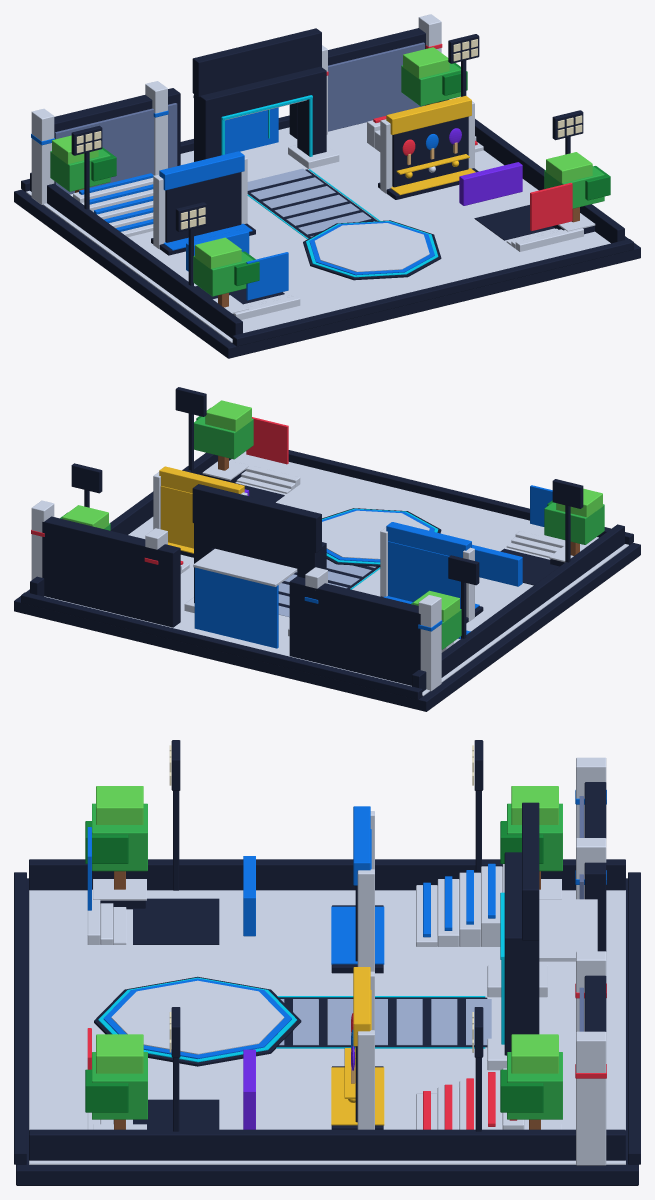
File: Lobby.glb
3 renders of one model, top to bottom at view 1: azimuth 30°, elevation 25°; view 2: azimuth 150°, elevation 25°; view 3: azimuth 270°, elevation 25°, orthographic. The views are drawn at different scales.
Parts seen in each view (by area): view 1: Lobby_PB_18213d, Lobby_PB_d9e4fa, Lobby_PB_687cae, Lobby_PB_087bff, Lobby_PB_32bf53, Lobby_PB_68e65b, Lobby_PB_a5b9df, Lobby_PB_ffc928, Lobby_PB_14933b, Lobby_PB_762bff, Lobby_PB_ff304b, Lobby_PB_00d9ff (+1 smaller); view 2: Lobby_PB_18213d, Lobby_PB_d9e4fa, Lobby_PB_087bff, Lobby_PB_32bf53, Lobby_PB_ffc928, Lobby_PB_68e65b, Lobby_PB_ff304b, Lobby_PB_a5b9df; view 3: Lobby_PB_d9e4fa, Lobby_PB_18213d, Lobby_PB_087bff, Lobby_PB_68e65b, Lobby_PB_32bf53, Lobby_PB_a5b9df, Lobby_PB_14933b, Lobby_PB_ffc928, Lobby_PB_00d9ff, Lobby_PB_ff304b, Lobby_PB_762bff.
Boxes of the visible parts, x1,y1,x2,y2 form: Lobby_PB_18213d: (14, 28, 640, 358); Lobby_PB_d9e4fa: (26, 14, 610, 342); Lobby_PB_687cae: (54, 42, 424, 194); Lobby_PB_087bff: (31, 107, 438, 300); Lobby_PB_32bf53: (50, 63, 604, 296); Lobby_PB_68e65b: (52, 47, 592, 268); Lobby_PB_a5b9df: (247, 168, 374, 237); Lobby_PB_ffc928: (386, 96, 475, 195); Lobby_PB_14933b: (91, 63, 610, 285); Lobby_PB_762bff: (449, 128, 522, 205); Lobby_PB_ff304b: (326, 43, 572, 231); Lobby_PB_00d9ff: (221, 95, 438, 277); Lobby_PB_18213d: (14, 387, 640, 711); Lobby_PB_d9e4fa: (31, 451, 628, 696); Lobby_PB_087bff: (194, 485, 552, 648); Lobby_PB_32bf53: (104, 416, 604, 649); Lobby_PB_ffc928: (159, 466, 244, 553); Lobby_PB_68e65b: (62, 400, 602, 622); Lobby_PB_ff304b: (31, 417, 288, 564); Lobby_PB_a5b9df: (278, 559, 375, 617); Lobby_PB_d9e4fa: (29, 757, 625, 1165); Lobby_PB_18213d: (14, 740, 640, 1185); Lobby_PB_087bff: (87, 790, 606, 1058); Lobby_PB_68e65b: (96, 786, 558, 1073); Lobby_PB_32bf53: (92, 803, 562, 1119); Lobby_PB_a5b9df: (279, 999, 491, 1045); Lobby_PB_14933b: (85, 821, 543, 1112); Lobby_PB_ffc928: (331, 967, 384, 1125); Lobby_PB_00d9ff: (98, 892, 504, 1062); Lobby_PB_ff304b: (87, 983, 606, 1129); Lobby_PB_762bff: (243, 1046, 355, 1129).
Size of the model in its own units: 44.8 by 13.86 by 40.6.
